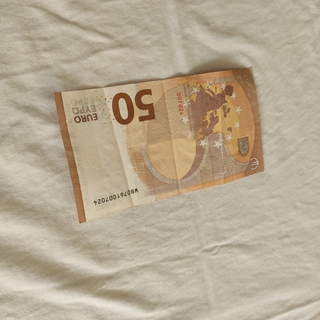50EUROBack: (51, 66, 265, 224)
